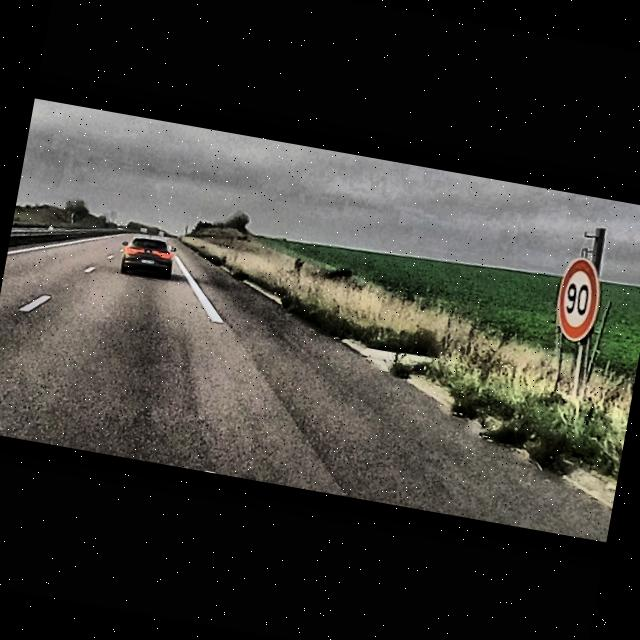speed_90: (553, 256, 604, 342)
